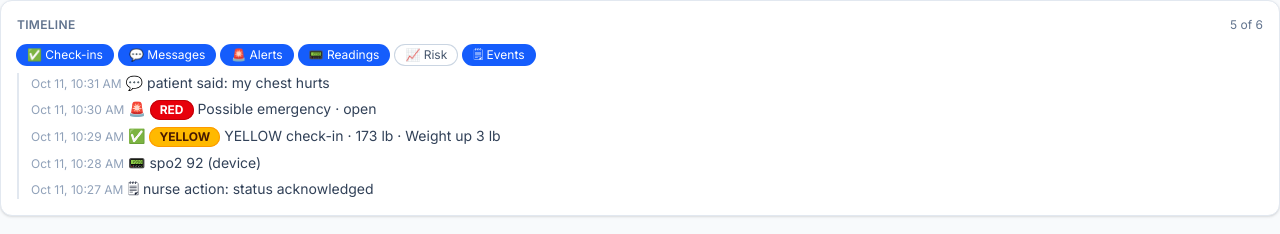
Test: TimelineCard › kind chips filter the list
Expected: the text "patient said: my chest hurts" is shown, 147,74 -> 330,91
Click the button "💬 Messages": {"x": 167, "y": 55} 119,45 -> 215,65
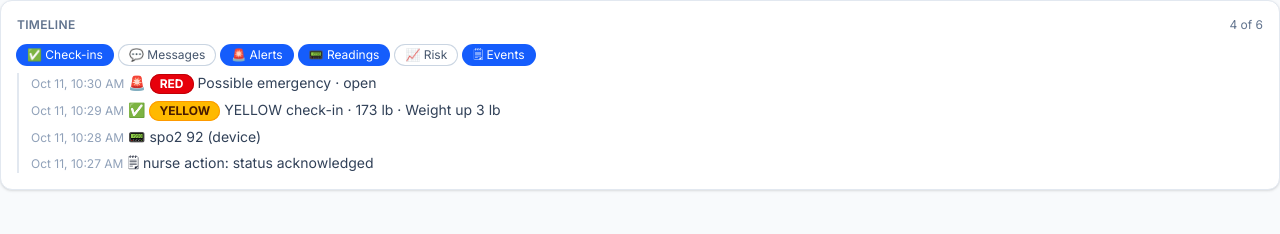
Now the text "my chest hurts" is gone
Click the button "📈 Risk": {"x": 426, "y": 55} 395,45 -> 457,65
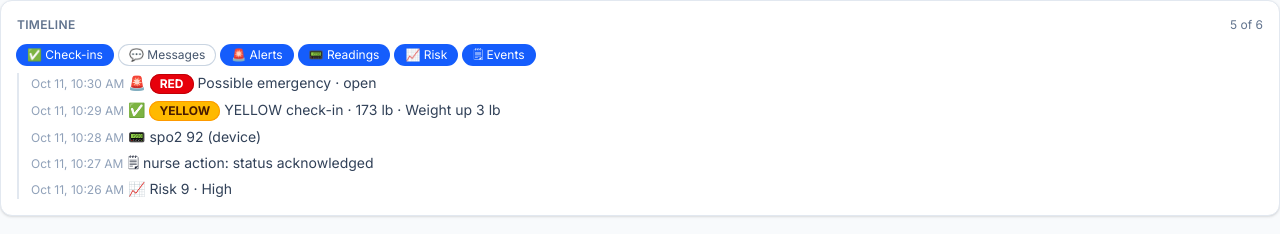
Now the text "Risk 9 · High" is shown, box 149,180 -> 232,197
